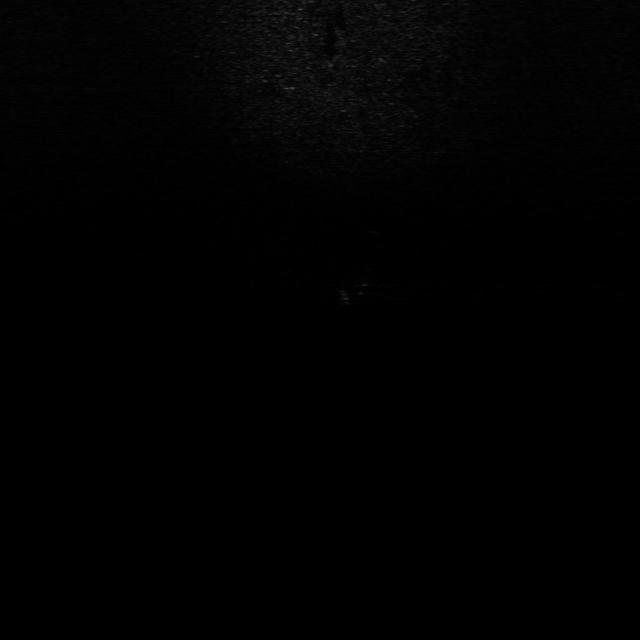human body: (340, 229, 386, 310)
